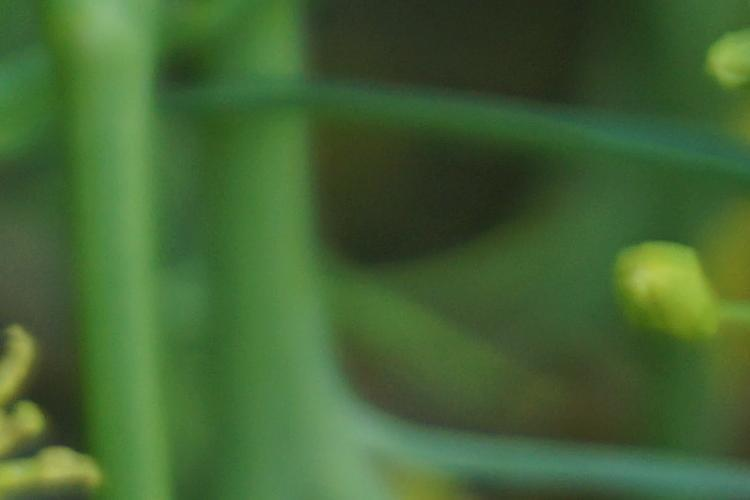bud: (590, 249, 733, 349)
